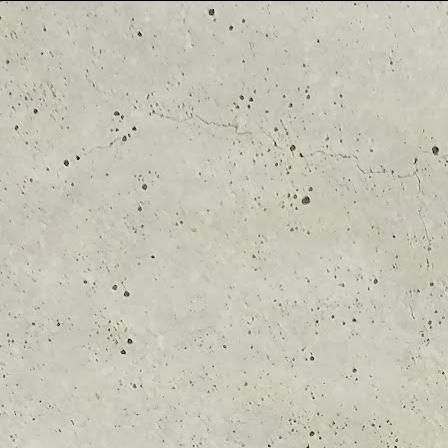crack: (282, 131, 448, 322), (135, 102, 295, 153), (47, 128, 129, 183)
